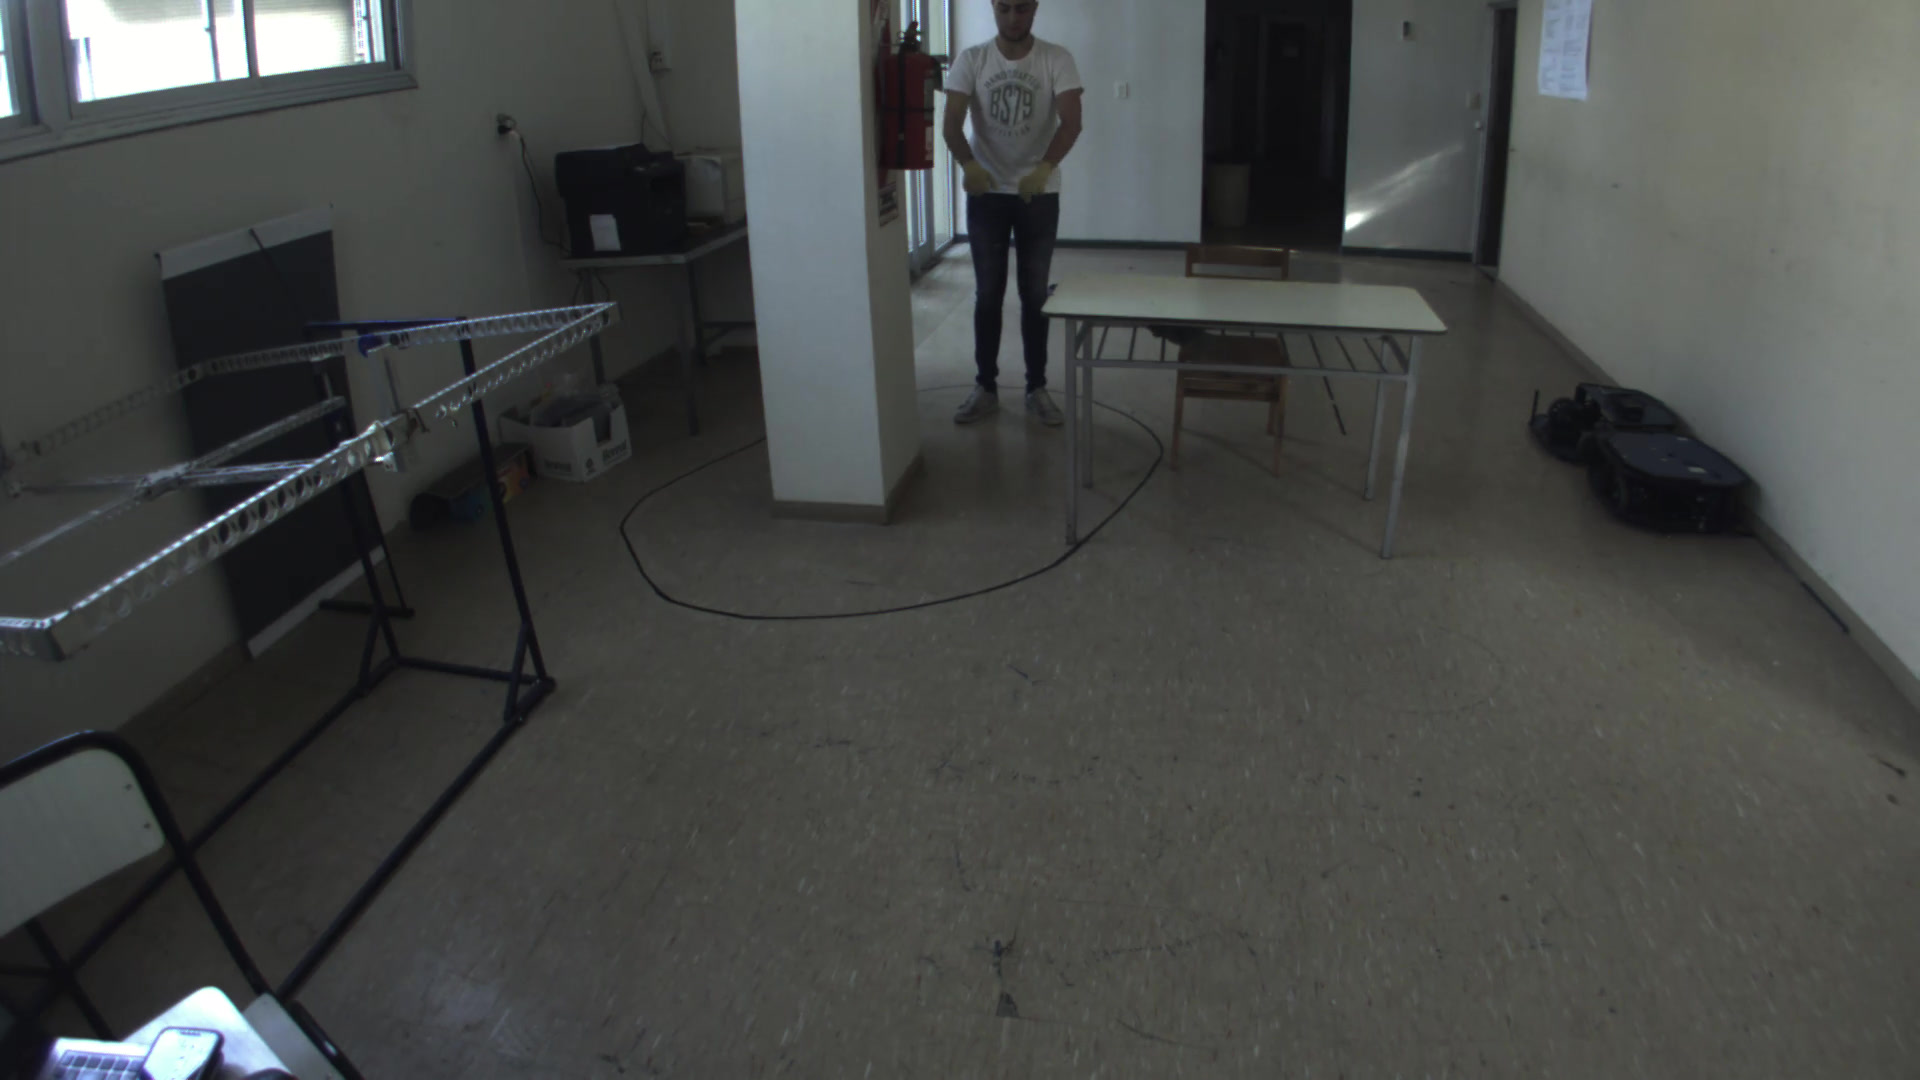hand: (1011, 160, 1062, 208), (952, 156, 1000, 204)
